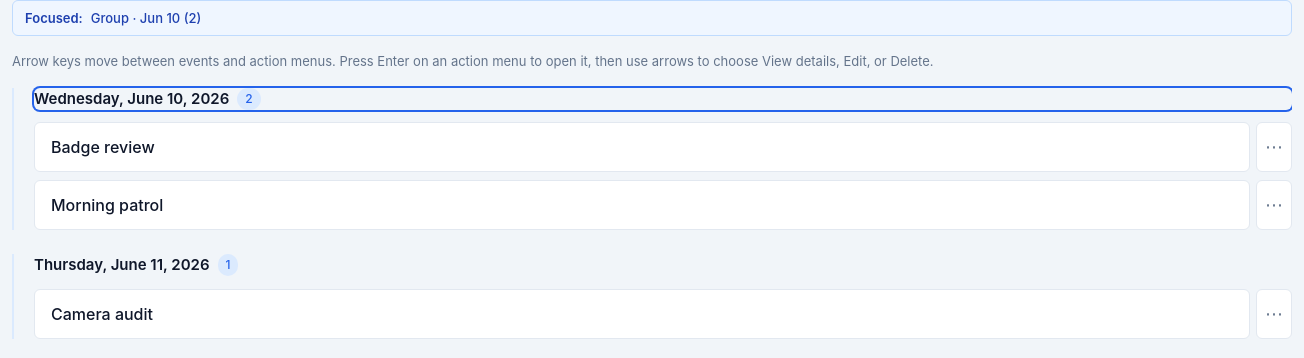
Scenario: Timeline › shows a visible focus bar that mirrors screen reader announcements
Expected: the text "Focused:" is shown, [25,9,83,27]
Expected: the text "Group · Jun 10 (2)" is shown, [91,9,201,27]
Click the button "Camera audit" at (102, 314), box [34,289,1250,339]
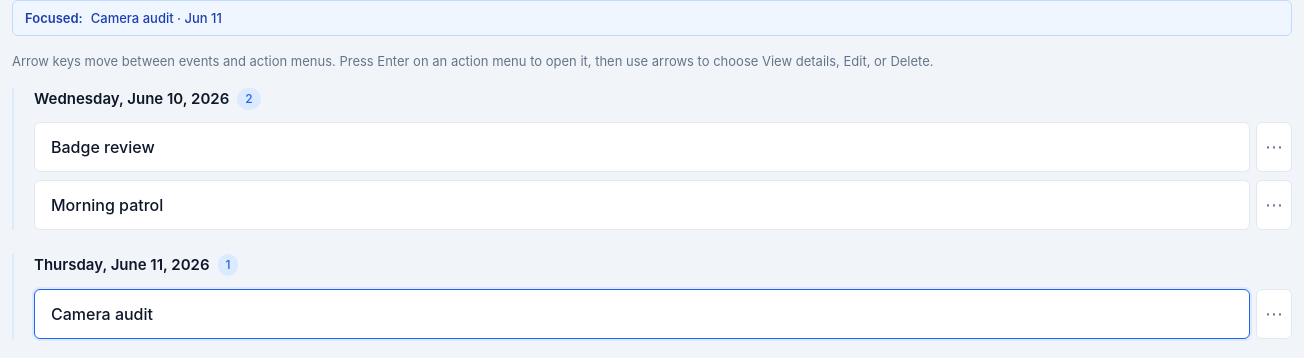
Expected: the text "Camera audit · Jun 11" is shown, [91,9,222,27]
